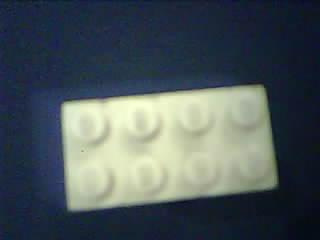lego: (59, 84, 278, 213)
